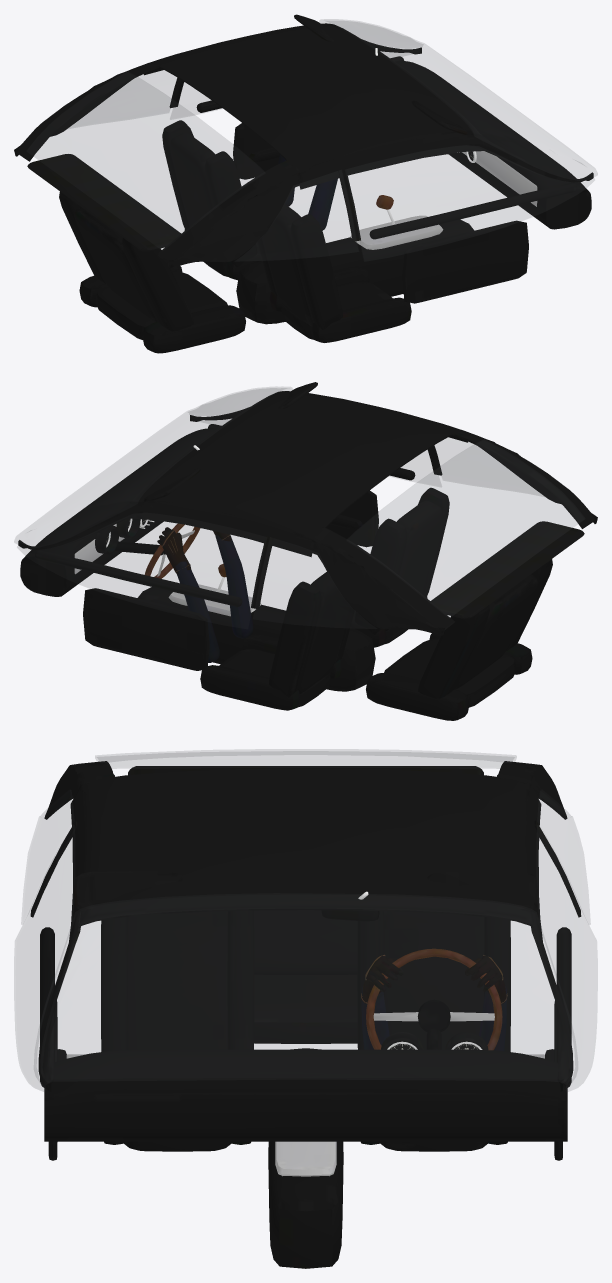
File: sv_stallion_cockpit_low.glb
3 renders of one model, top to bottom at view 1: azimuth 30°, elevation 25°; view 2: azimuth 150°, elevation 25°; view 3: azimuth 270°, elevation 25°, orthographic. The views are drawn at different scales.
Parts seen in each view (by area): view 1: cockpit_shell, cabin_glass, window_R, hands, window_L; view 2: cockpit_shell, cabin_glass, window_L, hands, steering_wheel, window_R; view 3: cockpit_shell, cabin_glass, window_L, window_R, hands, steering_wheel.
Part boxes in pixels (x1,y1,x2,y2): cockpit_shell: (14,14,593,353); cabin_glass: (27,19,597,260); window_R: (345,145,594,261); hands: (278,154,337,230); window_L: (179,83,218,114); cockpit_shell: (18,382,597,720); cabin_glass: (14,387,584,628); window_L: (17,513,266,628); hands: (157,527,253,662); steering_wheel: (144,523,200,578); window_R: (390,450,432,481); cockpit_shell: (30,761,581,1268); cabin_glass: (21,749,590,1087); window_L: (537,825,597,1091); window_R: (14,825,74,1091); hands: (361,954,507,1051); steering_wheel: (366,948,502,1050).
Size of the model in its own units: 2.15 by 1.1 by 1.71.
Materials: 4 (2 with a texture image).
